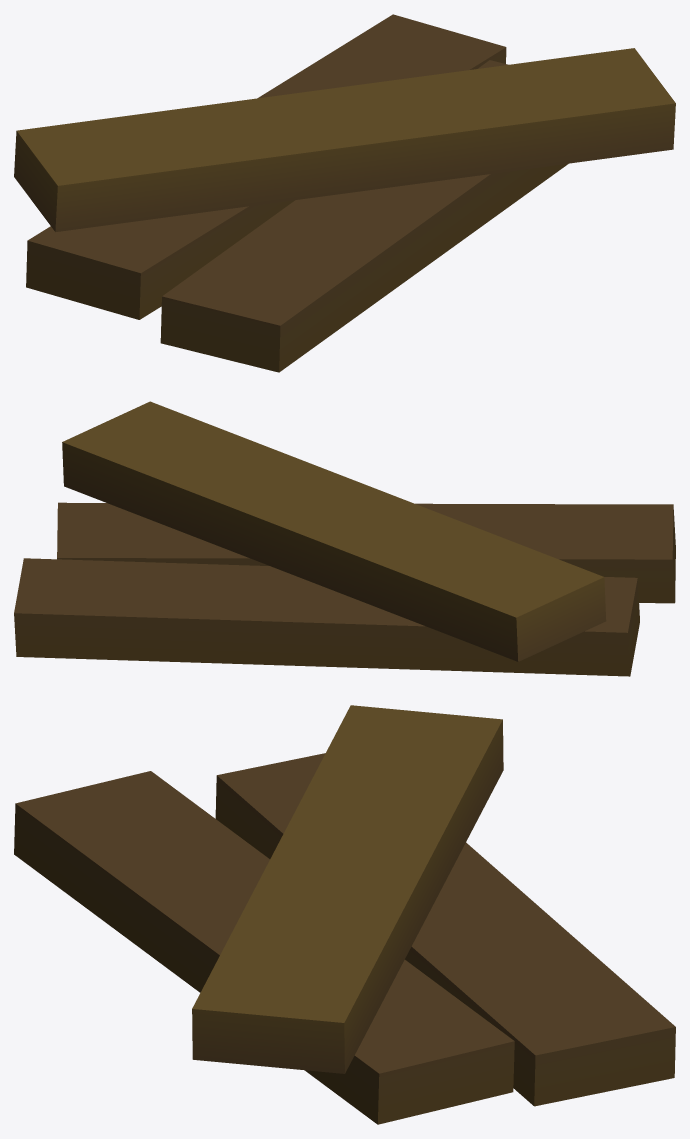
Rendered from wood_planks.glb.
3 renders of one model, top to bottom at view 1: azimuth 30°, elevation 25°; view 2: azimuth 150°, elevation 25°; view 3: azimuth 270°, elevation 25°, orthographic. The views are drawn at different scales.
Visible parts, largest first — view 1: wood_planks2; view 2: wood_planks2; view 3: wood_planks2.
Part boxes in pixels (box(x1,y1,x2,y2)): wood_planks2: box(14, 14, 675, 372); wood_planks2: box(14, 401, 675, 676); wood_planks2: box(14, 705, 675, 1124).
Bounding box in the file's own units: 1.2 × 0.1825 × 1.01.
Materials: 1 (1 with a texture image).
